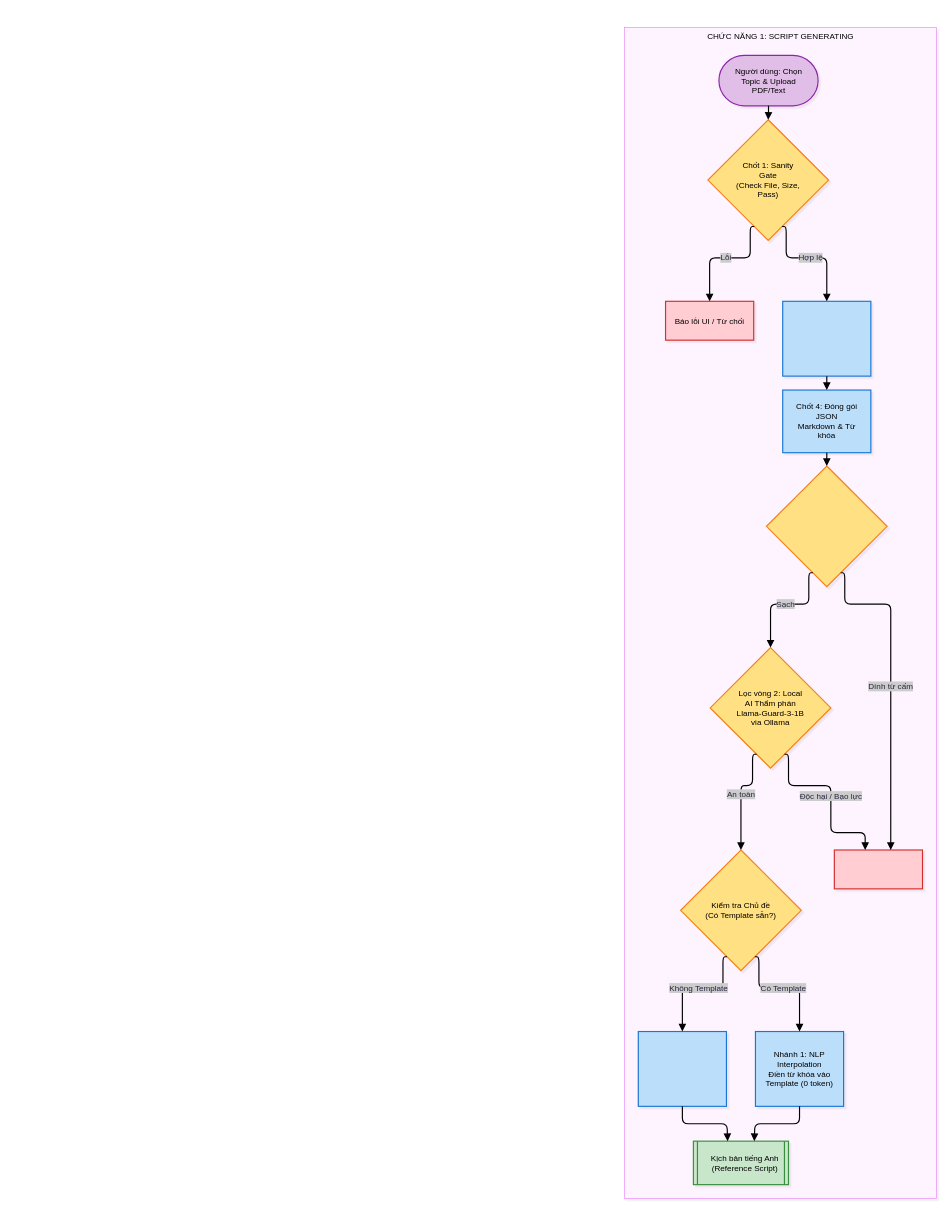
Image size: 949x1211. Some labels were removed from this diagram. The shapes that lost their labels are listed below. From the top down, each one's centre as x and y in pixels, then its label:
At pixel 827 339: "Chốt 2 & 3: Định tuyến trang & Trích xuất PyMuPDF4LLM / RapidOCR".
At pixel 828 527: "Lọc vòng 1: Local Regex & Profanity Chặn từ cấm lộ liễu".
At pixel 879 870: "Chặn & Cảnh báo an toàn".
At pixel 683 1070: "Nhánh 2: Chuỗi Fallback API gpt-120b -> qwen-27b -> gpt-20b".
